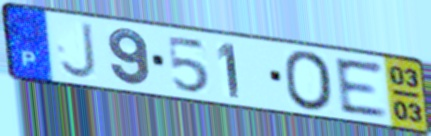1: (215, 41, 242, 99)
5: (165, 33, 212, 94)
9: (105, 26, 153, 88)
E: (331, 56, 391, 119)
J: (58, 20, 100, 82)
O: (281, 49, 337, 113)
